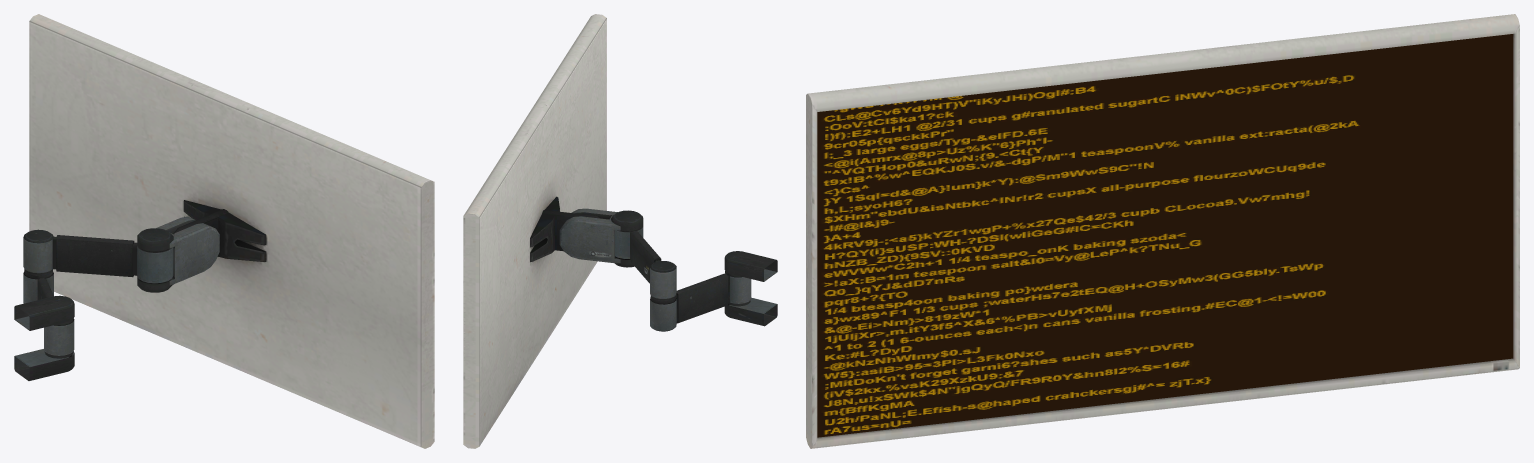
File: lab_monitor_02.glb
The picture shows the model from 3 angles, left to right: view 1: azimuth 30°, elevation 25°; view 2: azimuth 150°, elevation 25°; view 3: azimuth 270°, elevation 25°; orthographic projection. The views are drawn at different scales.
Parts seen in each view (by area): view 1: lab_monitor_pose02_parts\obj\lab_monitor_pose02.obj; view 2: lab_monitor_pose02_parts\obj\lab_monitor_pose02.obj; view 3: lab_monitor_pose02_parts\obj\lab_monitor_pose02.obj.
Part boxes in pixels (<box>): lab_monitor_pose02_parts\obj\lab_monitor_pose02.obj: <box>14,14,434,448</box>; lab_monitor_pose02_parts\obj\lab_monitor_pose02.obj: <box>463,14,777,448</box>; lab_monitor_pose02_parts\obj\lab_monitor_pose02.obj: <box>806,14,1519,448</box>.
Bounding box in the file's own units: 0.5663 × 0.4672 × 0.8612.
Materials: 2 (2 with a texture image).
